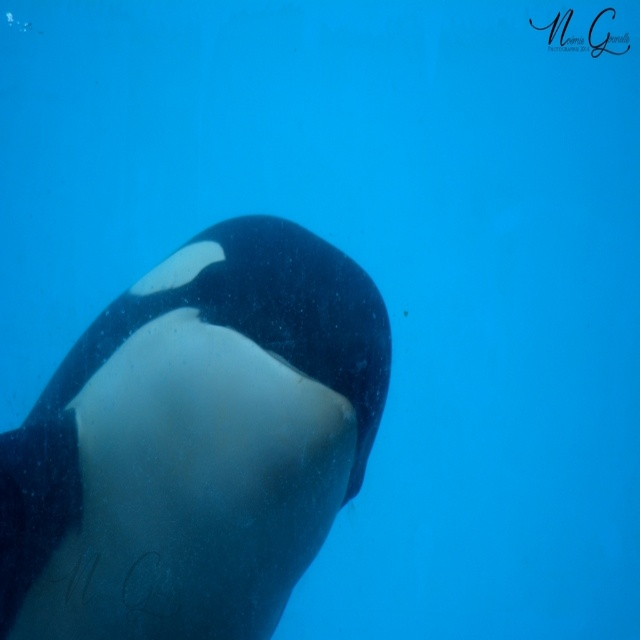Whale: (0, 214, 392, 640)
